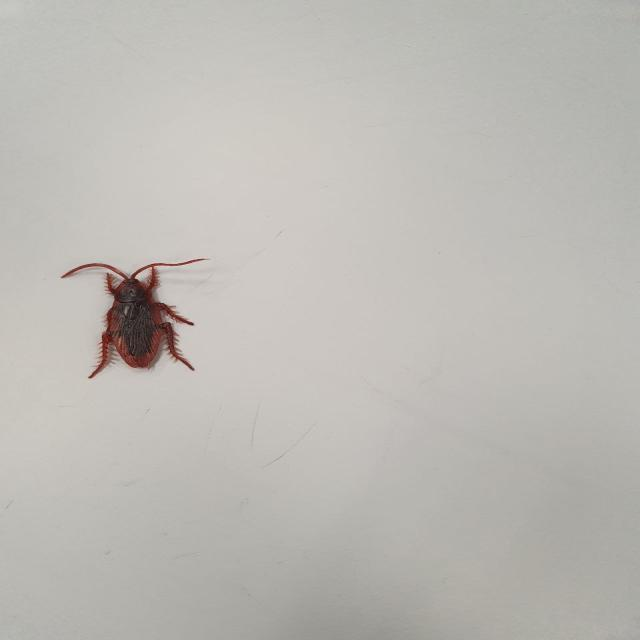Cockroach: (51, 244, 219, 379)
